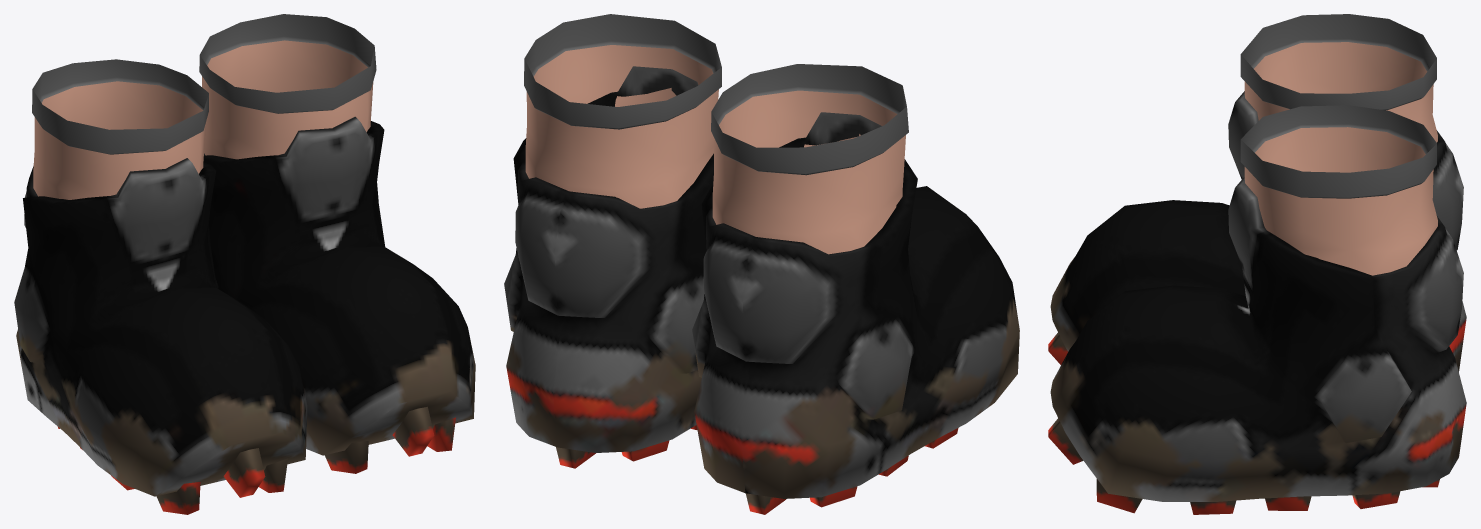
3 renders of one model, left to right at view 1: azimuth 30°, elevation 25°; view 2: azimuth 150°, elevation 25°; view 3: azimuth 270°, elevation 25°, orthographic. The views are drawn at different scales.
Parts seen in each view (by area): view 1: model_0_submesh_0; view 2: model_0_submesh_0; view 3: model_0_submesh_0.
Part boxes in pixels (x1=…): model_0_submesh_0: x1=14, y1=14, x2=475, y2=514; model_0_submesh_0: x1=504, y1=14, x2=1019, y2=514; model_0_submesh_0: x1=1048, y1=14, x2=1466, y2=514.
Bounding box in the file's own units: 0.381 × 0.3401 × 0.369.
